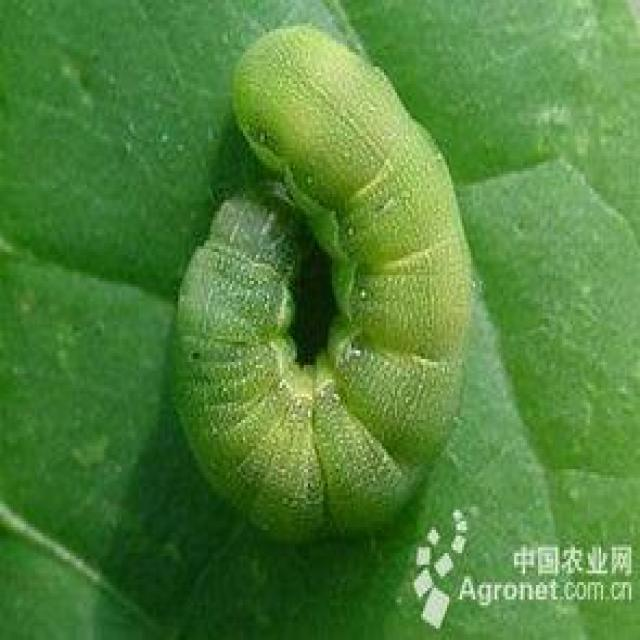BeetArmyWorm-Larva-: (150, 20, 480, 550)
